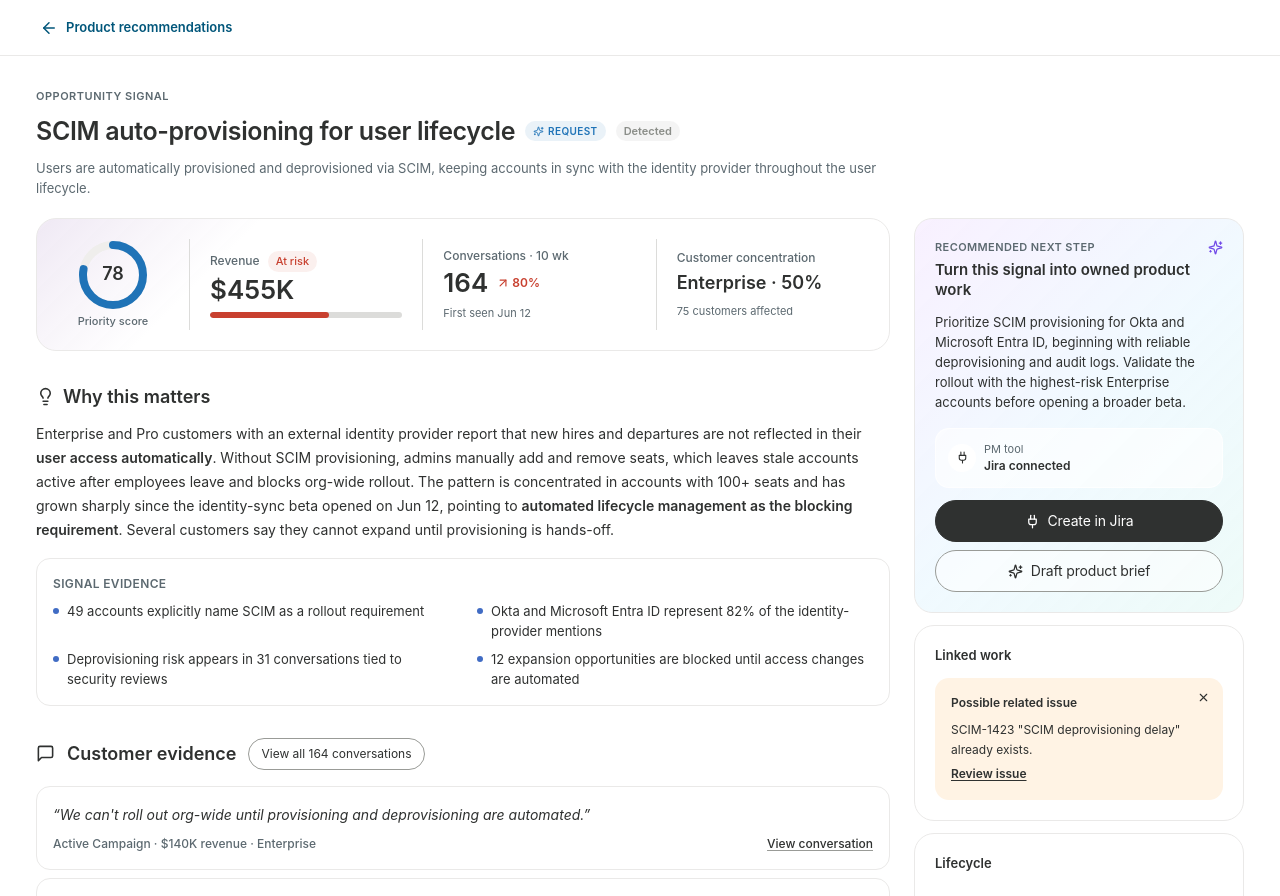
Test case: OpportunityDetailScreen › creates an issue with the feed-connected tool and surfaces it as linked work
Click the button "Create in Jira" at (1079,521), box [935,500,1223,542]
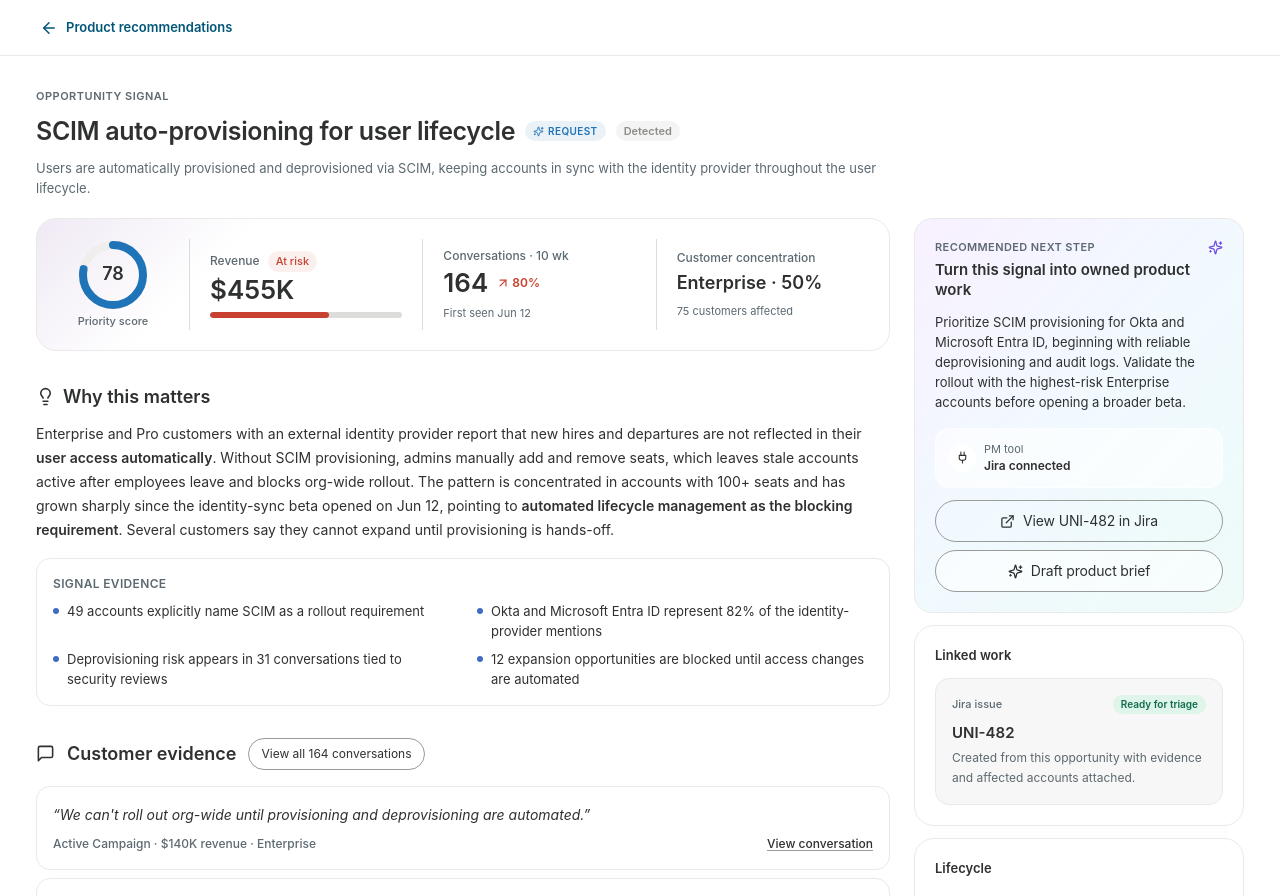
Click the button "View UNI-482 in Jira" at (1079,521), box [935,500,1223,542]
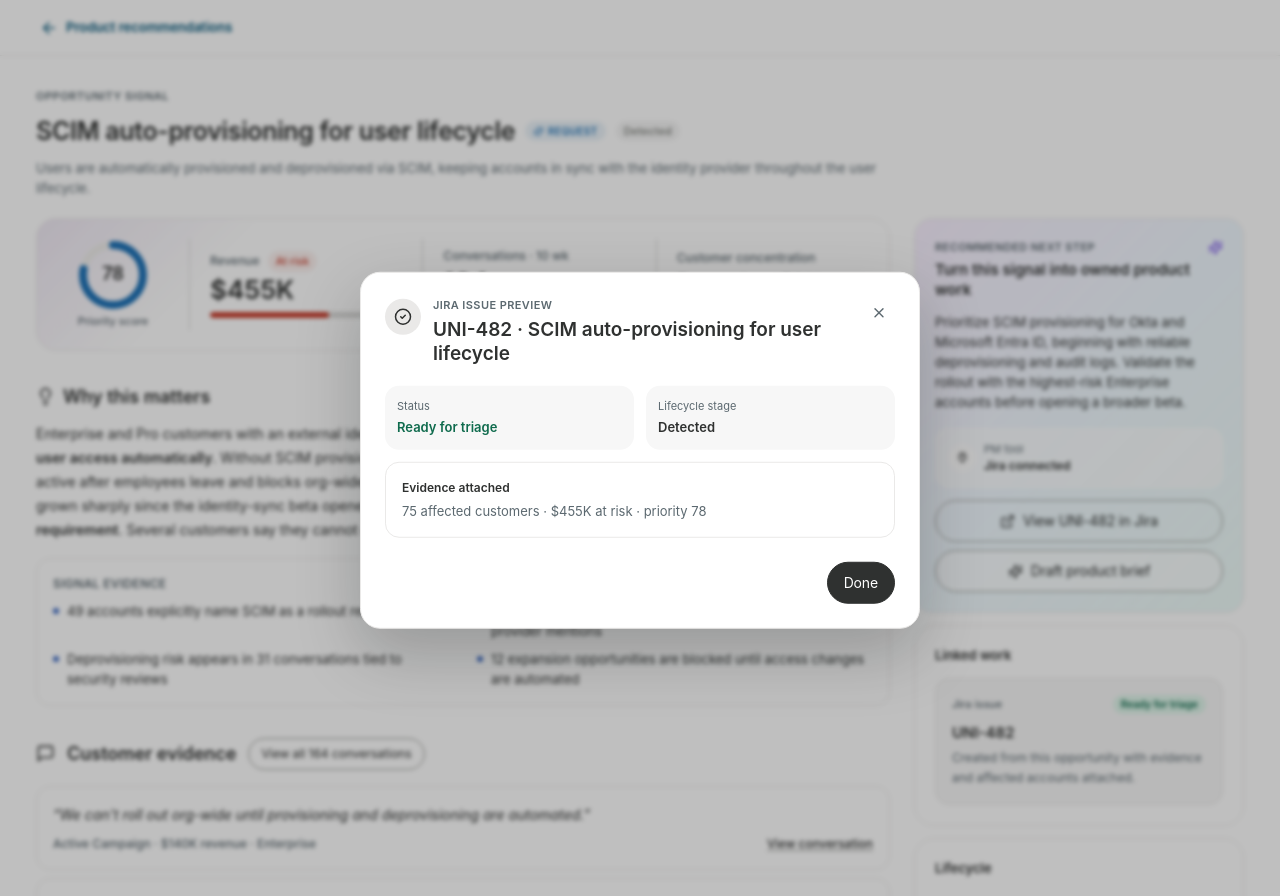
Expected: the dialog "UNI-482" is shown, [360,272,920,628]
Click the button named "close" at (879,313), box [863,297,895,329]
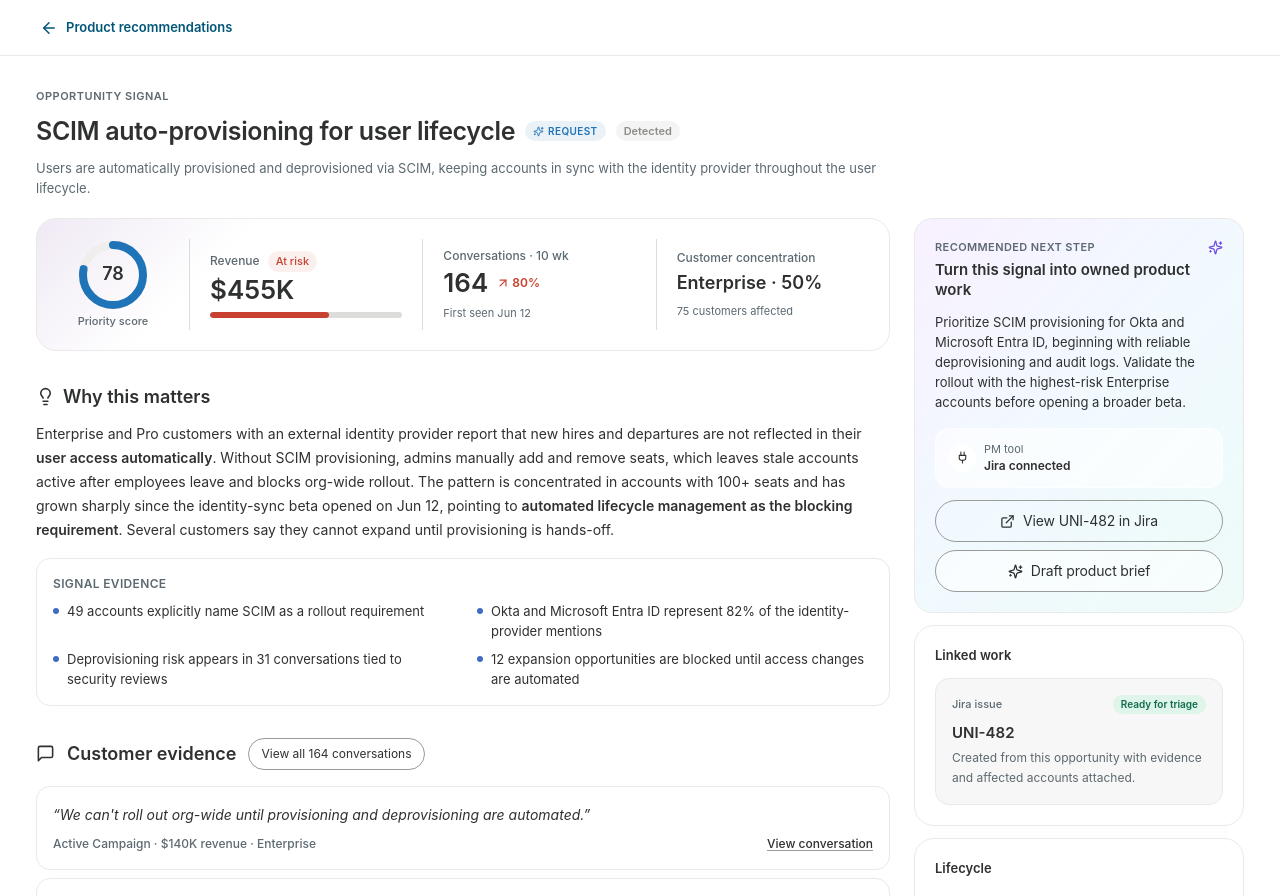
Expected: the text "Linked work" is shown, [935,647,1011,663]
Expected: the text "UNI-482" is shown, [952,722,1014,742]
Click the button "Draft product brief" at (1079,571), box [935,550,1223,592]
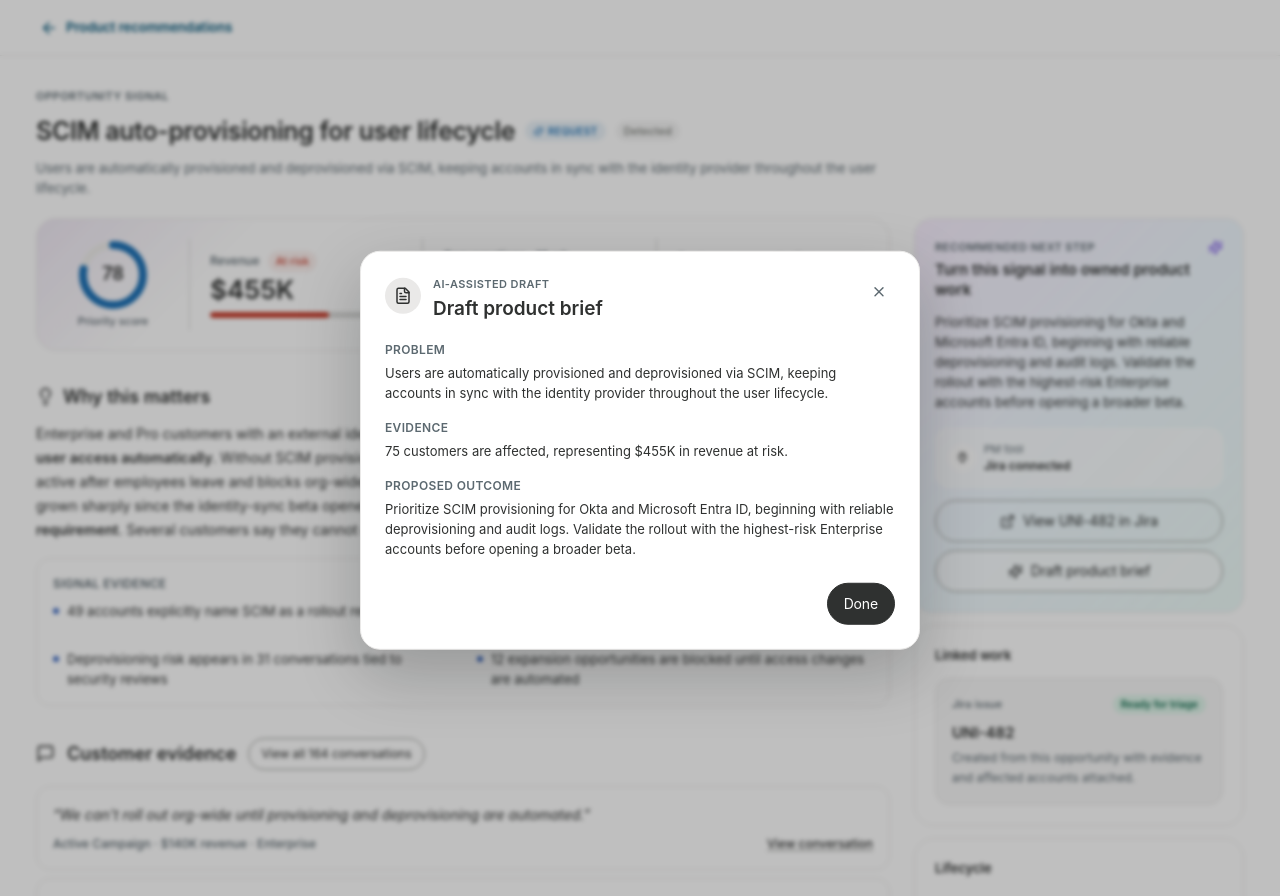
Expected: the dialog "Draft product brief" is shown, [360,251,920,649]
Expected: the heading "Proposed outcome" is shown, [385,477,521,492]
